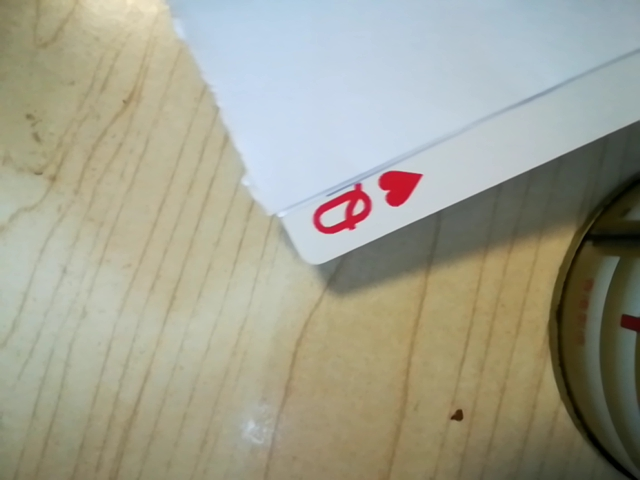hx q: (300, 164, 423, 250)
